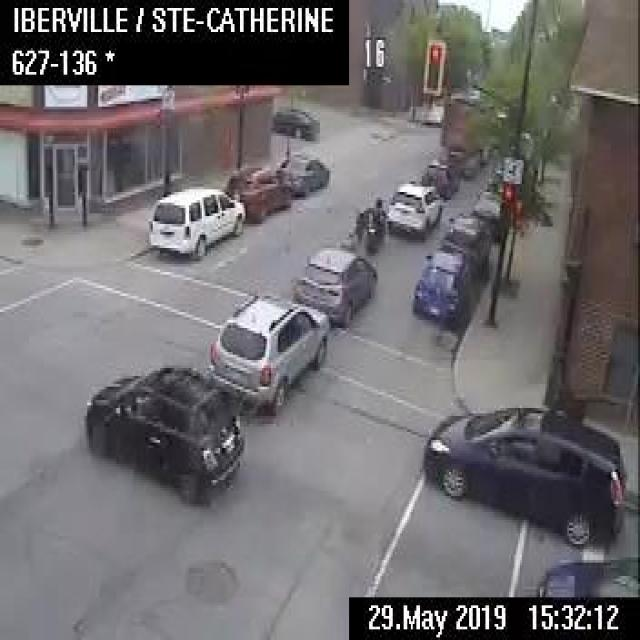vehicle: (423, 403, 625, 544), (83, 363, 244, 501), (205, 291, 328, 407), (147, 184, 244, 257), (295, 244, 376, 326), (410, 248, 466, 322), (536, 554, 638, 594), (224, 164, 290, 222), (440, 210, 490, 279), (385, 178, 441, 238), (279, 152, 328, 194), (350, 195, 384, 252), (470, 186, 502, 238), (270, 105, 318, 136), (420, 158, 458, 196), (421, 101, 443, 123)
